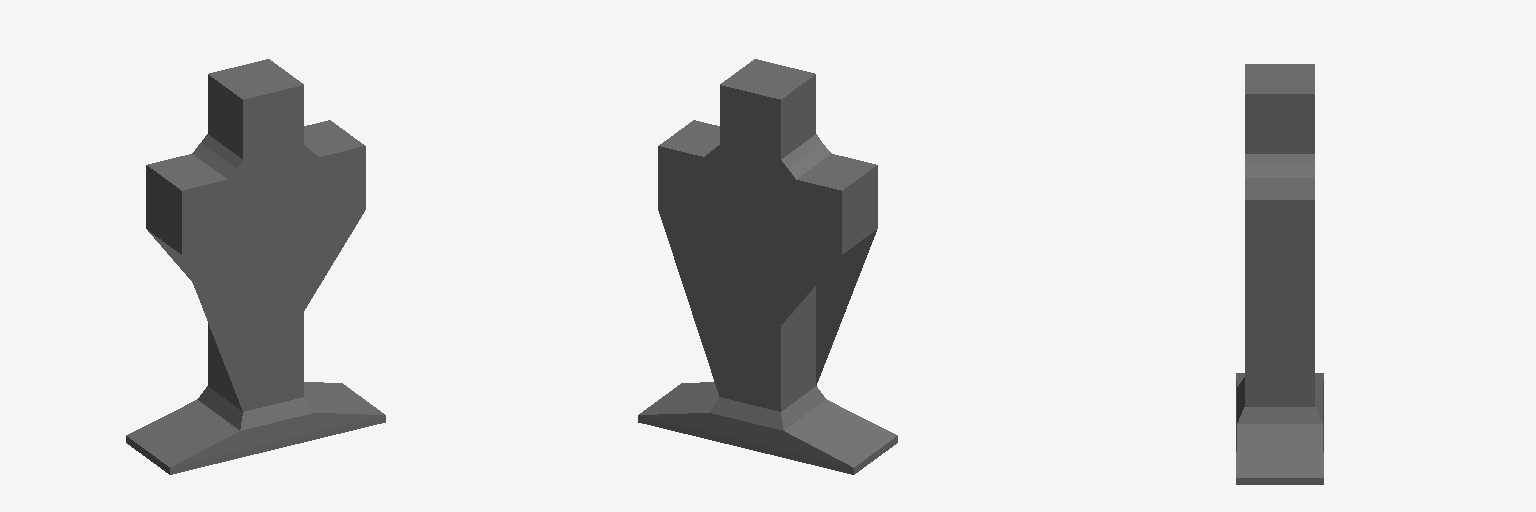
The model's file is Cruz.obj.
3 renders of one model, left to right at view 1: azimuth 30°, elevation 25°; view 2: azimuth 150°, elevation 25°; view 3: azimuth 270°, elevation 25°, orthographic.
Parts seen in each view (by area): view 1: Mesh; view 2: Mesh; view 3: Mesh.
Part boxes in pixels (x1,y1,x2,y2): Mesh: (126, 59, 385, 474); Mesh: (638, 59, 897, 474); Mesh: (1236, 64, 1323, 484).
Bounding box in the file's own units: 1.24 × 1.93 × 0.4363.